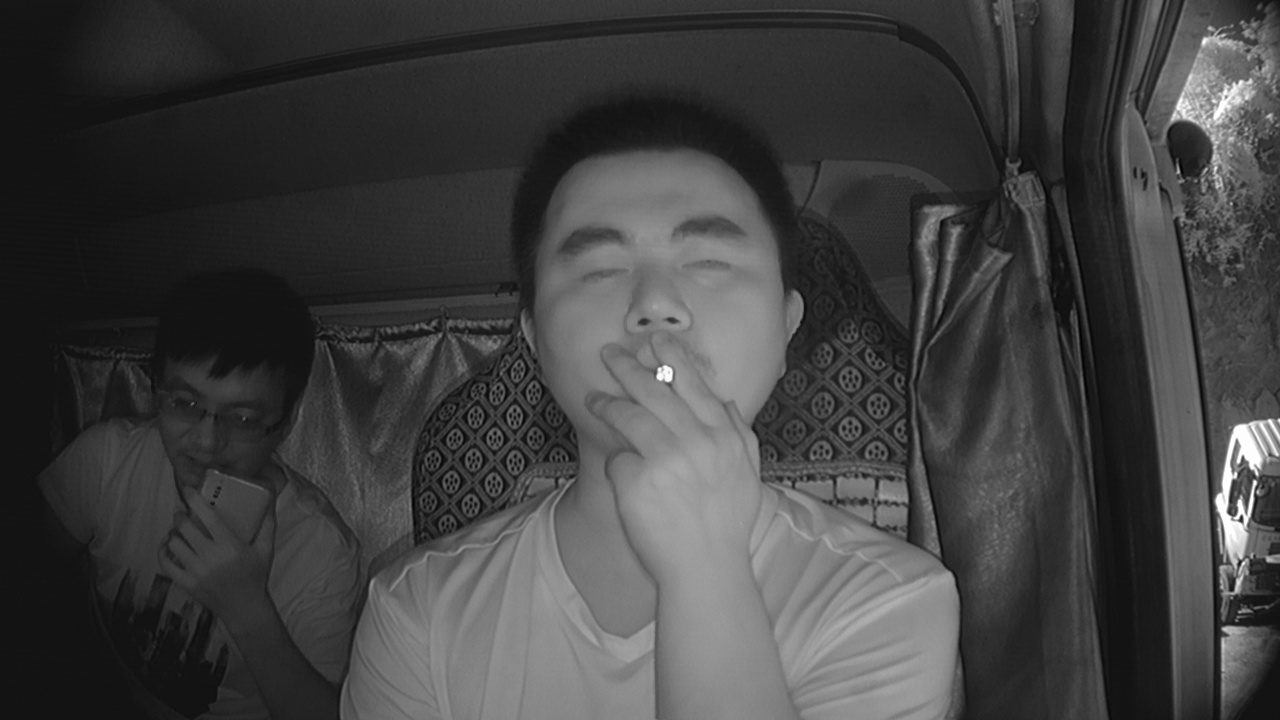hand: (590, 333, 768, 549)
